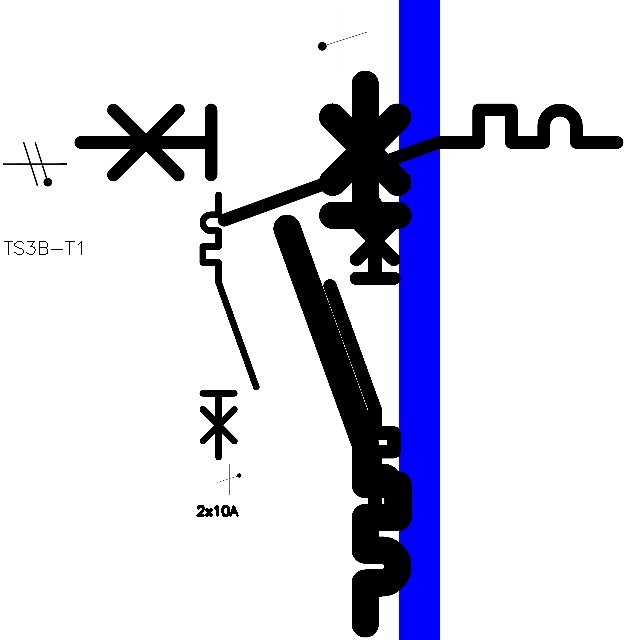interruptor_termomagnetico: (273, 70, 412, 638), (66, 96, 630, 234), (322, 195, 402, 521), (196, 188, 263, 464)
